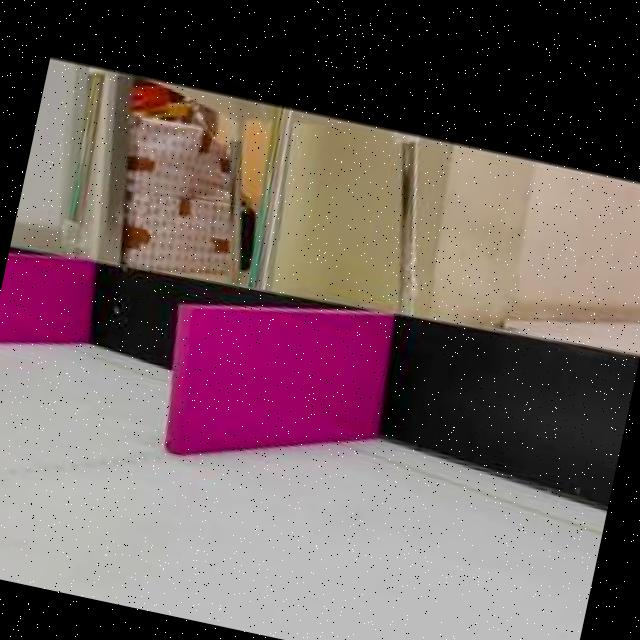xparking: (161, 299, 383, 473), (0, 257, 85, 358)
